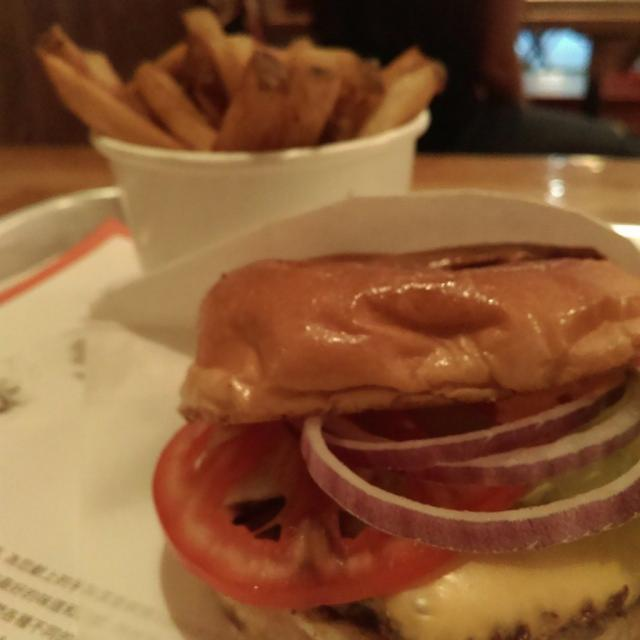Hamburger: (148, 238, 639, 639)
